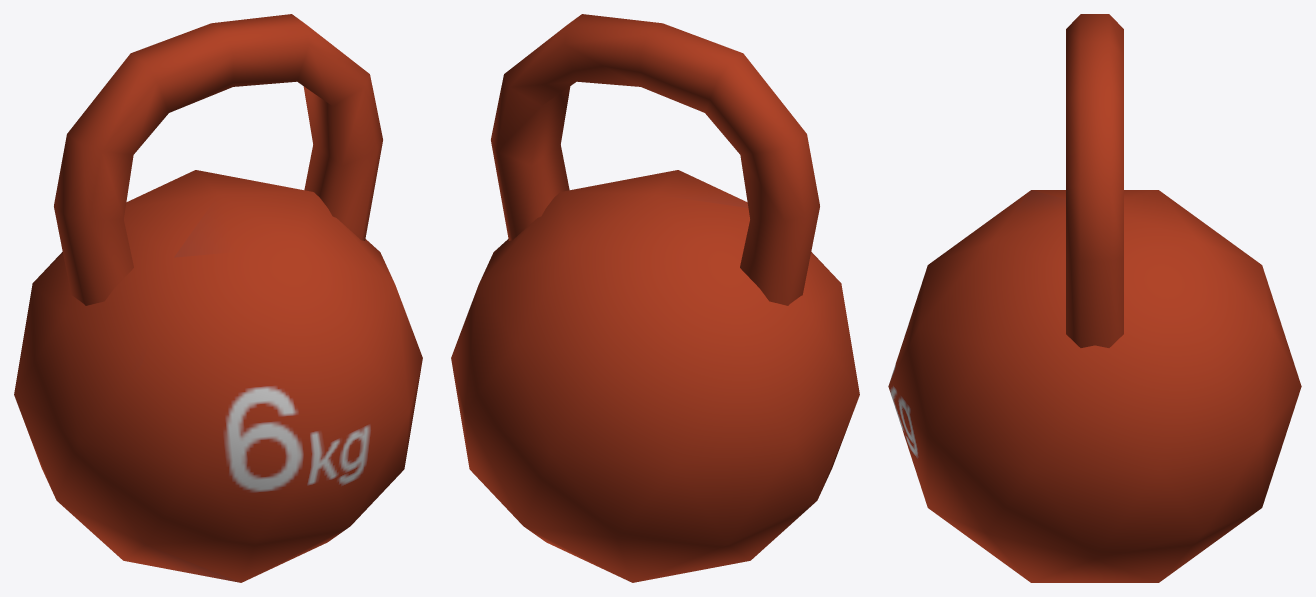
File: kettlebell.glb
The picture shows the model from 3 angles, left to right: view 1: azimuth 30°, elevation 25°; view 2: azimuth 150°, elevation 25°; view 3: azimuth 270°, elevation 25°; orthographic projection.
Parts seen in each view (by area): view 1: Kettlebell; view 2: Kettlebell; view 3: Kettlebell.
Boxes of the visible parts, bbox=[...] form: Kettlebell: bbox=[14, 14, 422, 582]; Kettlebell: bbox=[451, 14, 859, 582]; Kettlebell: bbox=[888, 14, 1301, 582].
Size of the model in its own units: 0.2149 by 0.3035 by 0.2259.
1 material, 1 textured.
